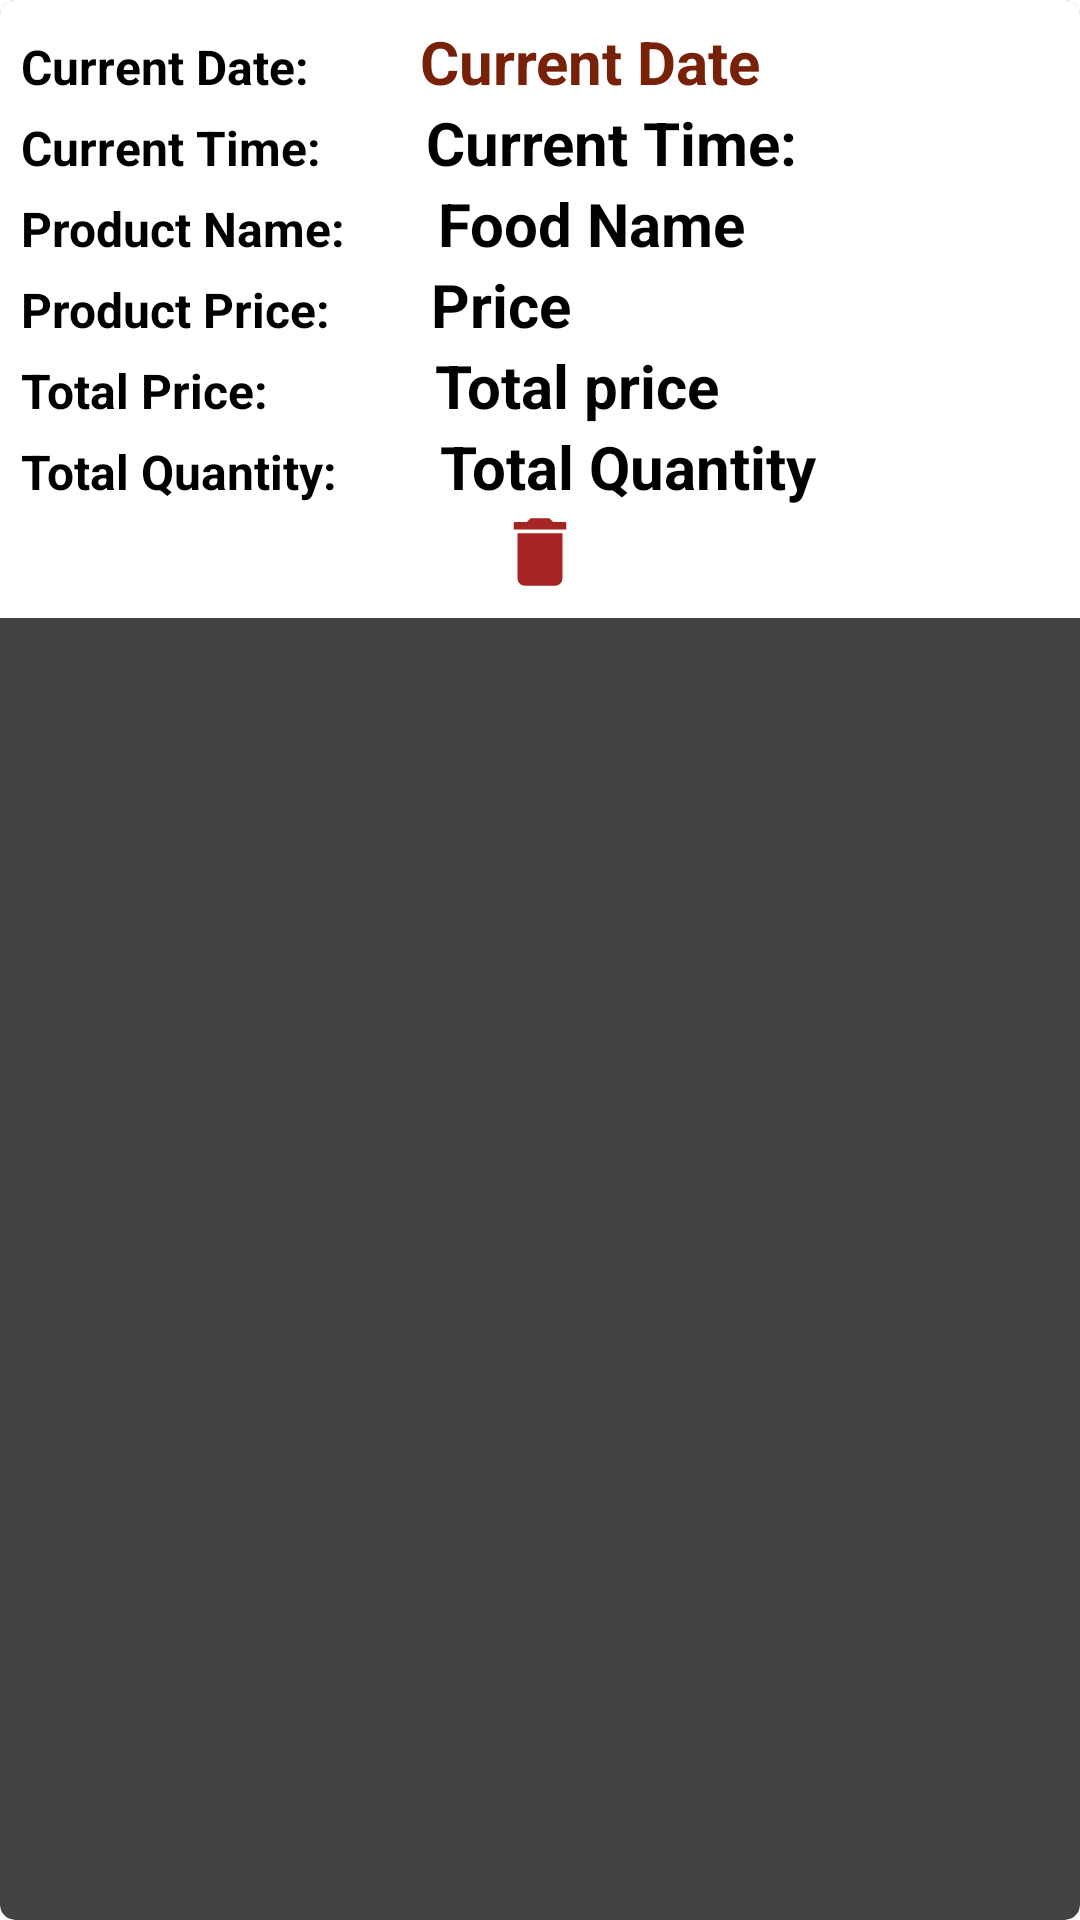

Icons on this 1080w x 1920h Android screen, each with its box as Rect(x1, y1, x2, y2):
delete: Rect(513, 518, 567, 586)
